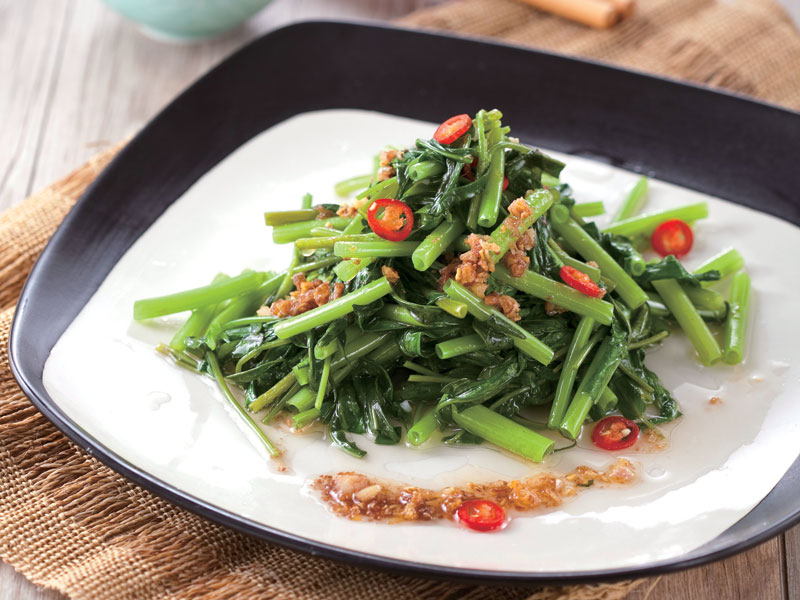water_spinach: (165, 113, 749, 455)
